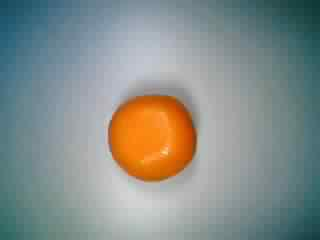orange: (101, 80, 196, 182)
